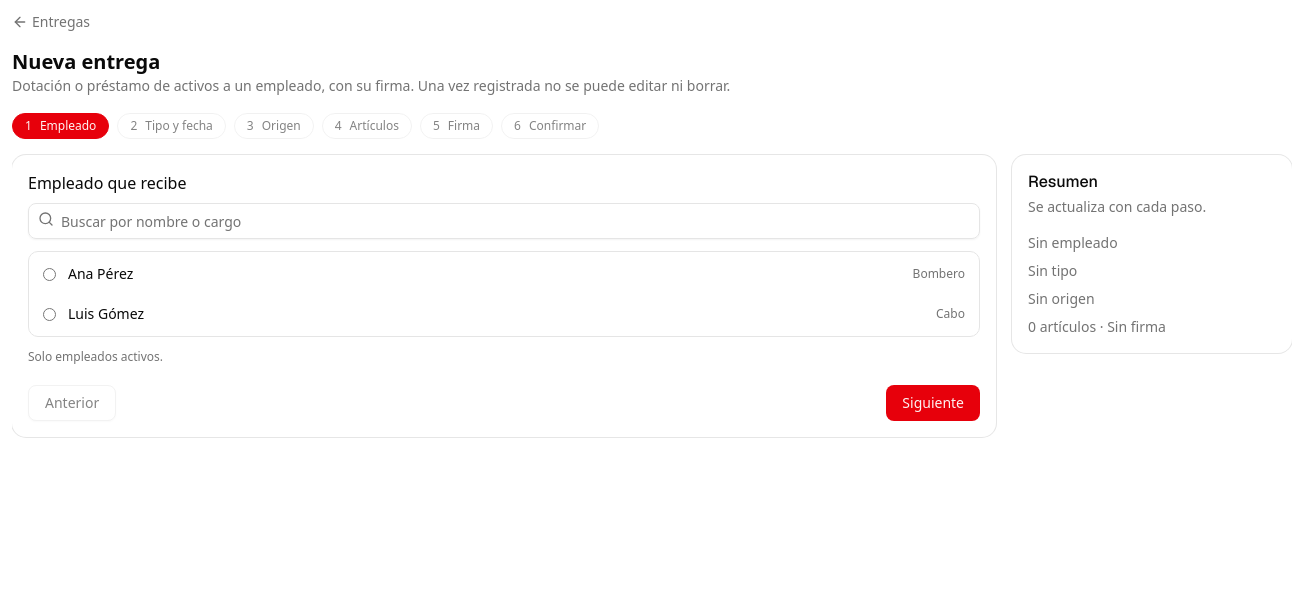
Test: NewDeliveryScreen (/entregas/nueva, 007 US1, RN-023..RN-025) › préstamo sin fecha esperada no avanza (US1-2)
Click the radio button labelled "Ana Pérez Bombero": (50, 274) [43, 268, 56, 280]
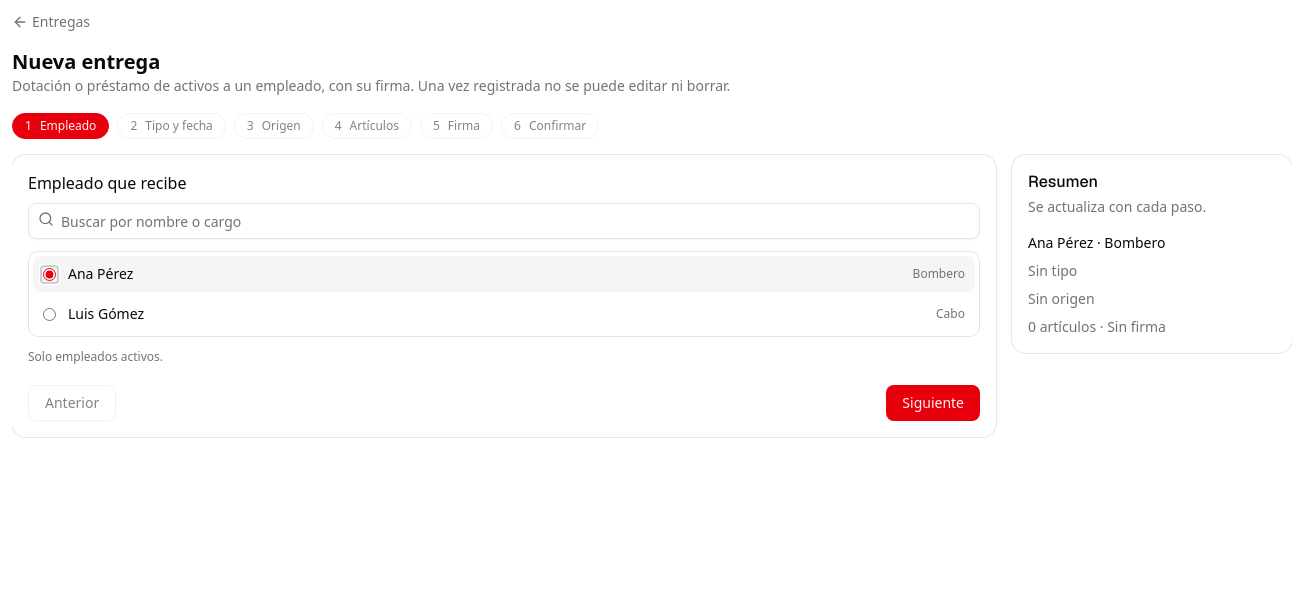
Click the button "Siguiente": (933, 403) [886, 385, 980, 421]
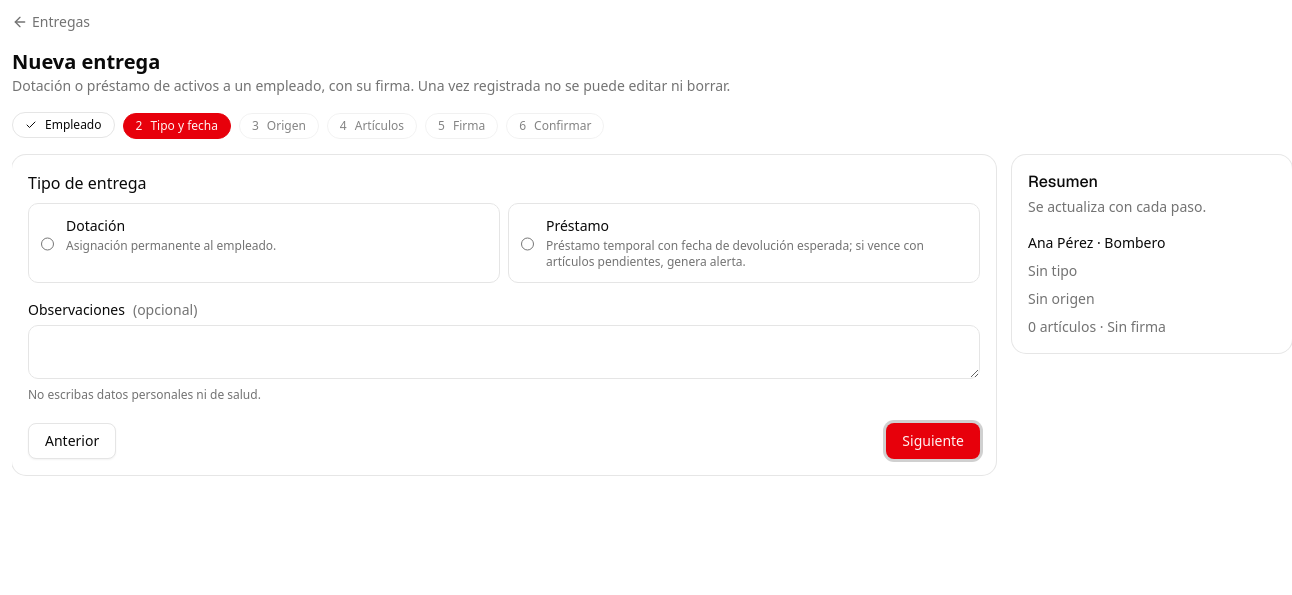
Click the radio button labelled "Préstamo": (528, 244) [521, 218, 534, 270]
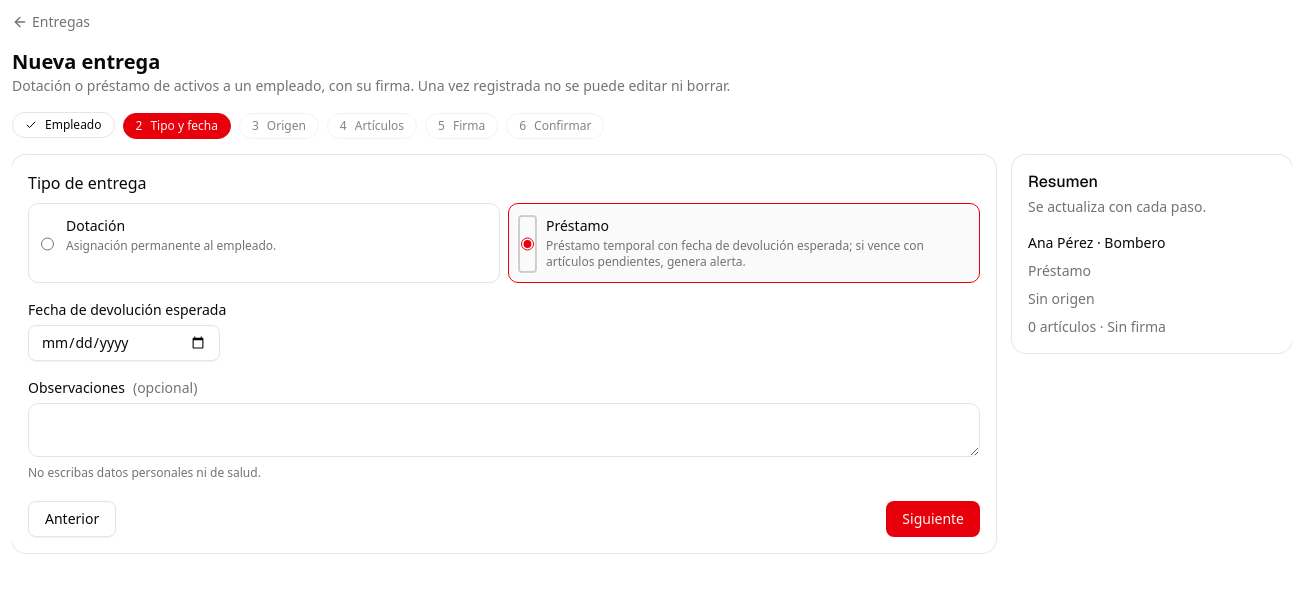
Click the button "Siguiente": (933, 519) [886, 501, 980, 537]
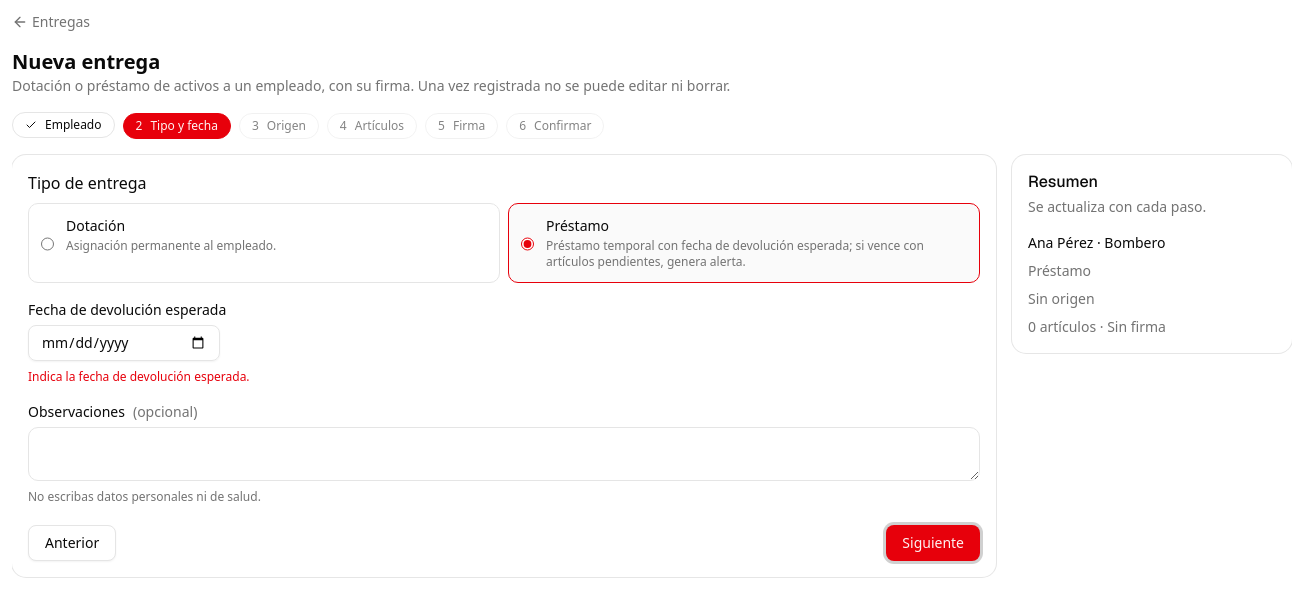
Now the text "Indica la fecha de devolución esperada." is shown, box [28, 368, 250, 385]
